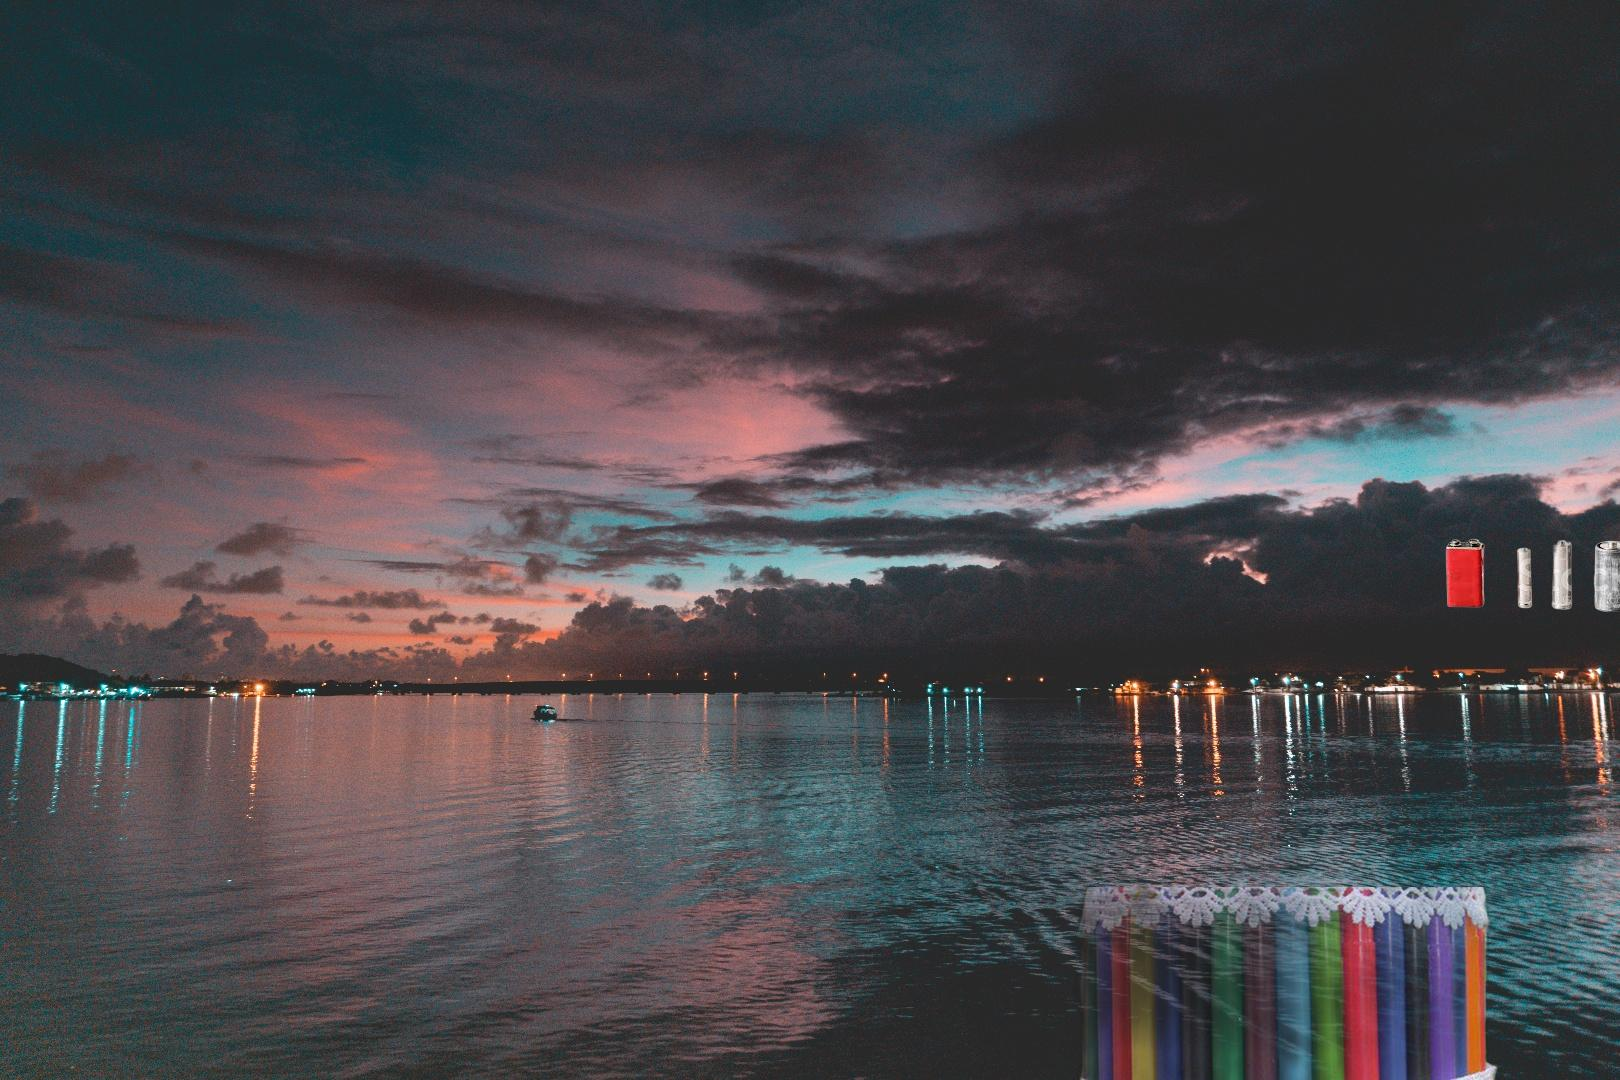battery: (1443, 520, 1620, 617)
penholder: (1029, 887, 1542, 1080)
